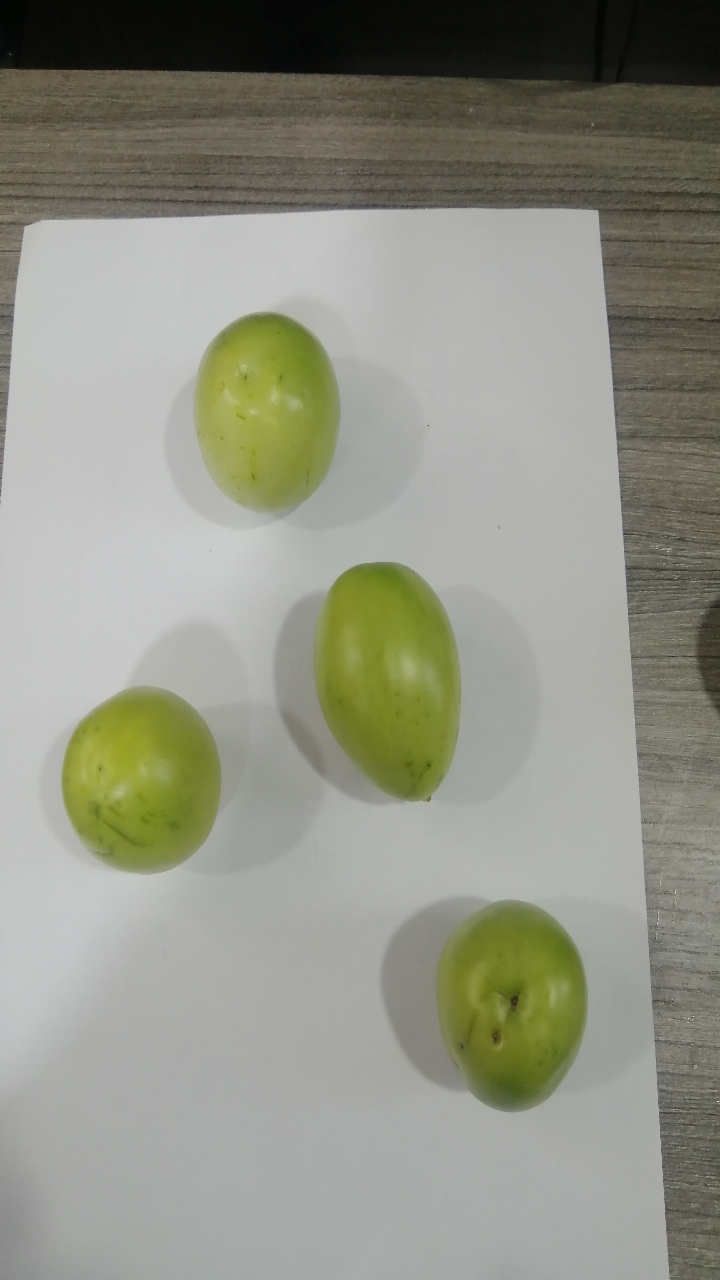tomateVerde: (284, 546, 503, 834), (174, 291, 366, 542), (412, 877, 588, 1132), (52, 672, 240, 891)
